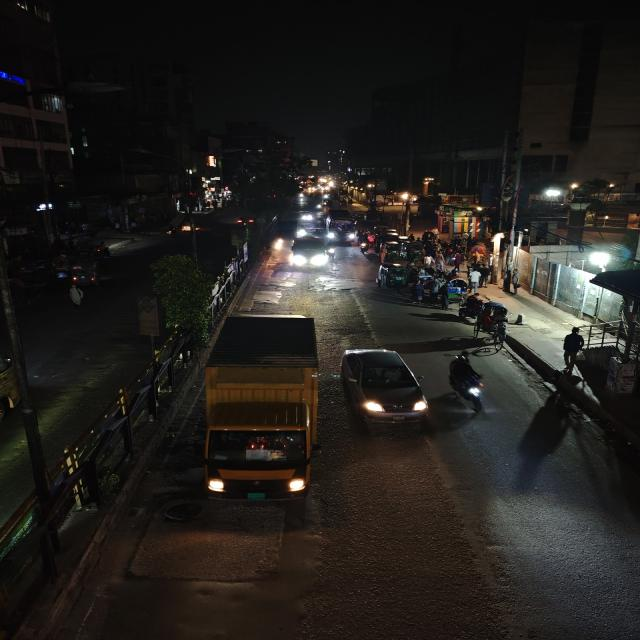bus: (326, 209, 359, 245)
car: (337, 345, 432, 431)
cng: (52, 243, 112, 287), (377, 263, 410, 289)
motorcycle: (446, 352, 491, 414), (358, 239, 371, 255)
pedestrian: (559, 328, 586, 368), (458, 296, 481, 324), (408, 280, 428, 305), (467, 266, 482, 290), (509, 276, 523, 298), (496, 270, 508, 292), (514, 312, 526, 326)
pickup_van: (287, 234, 329, 272)
rickshaw: (447, 277, 468, 301)
truck: (200, 310, 324, 506)
